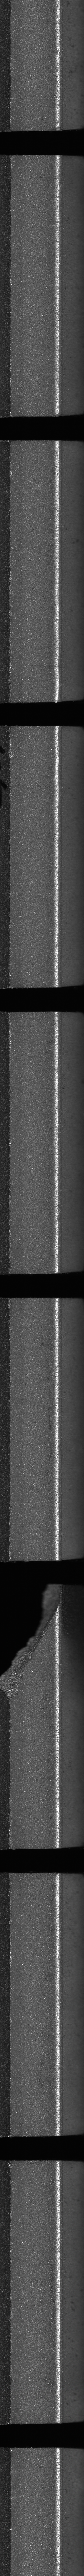Chip: (0, 1584, 61, 1702)
